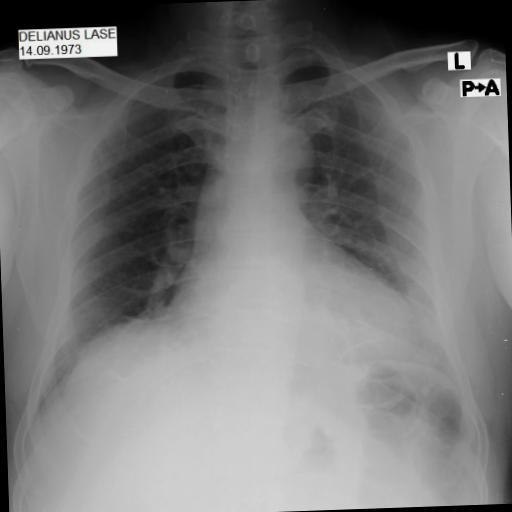kardiomegali: (19, 33, 463, 429)
